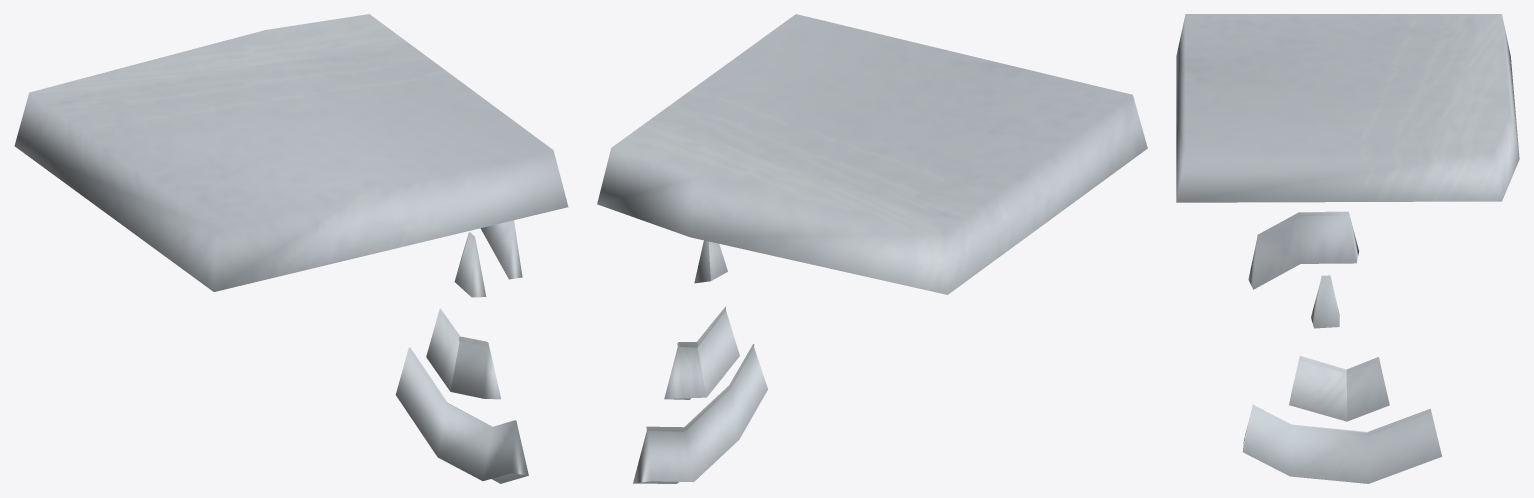
File: Deco_2_Snow.fbx
3 renders of one model, left to right at view 1: azimuth 30°, elevation 25°; view 2: azimuth 150°, elevation 25°; view 3: azimuth 270°, elevation 25°, orthographic. The views are drawn at different scales.
Parts seen in each view (by area): view 1: Deco_2_Snow; view 2: Deco_2_Snow; view 3: Deco_2_Snow.
Boxes of the visible parts, box(x1,y1,x2,y2) form: Deco_2_Snow: box(14, 14, 568, 483); Deco_2_Snow: box(597, 14, 1147, 483); Deco_2_Snow: box(1176, 14, 1519, 483).
Bounding box in the file's own units: 97.5 × 103 × 97.5.
